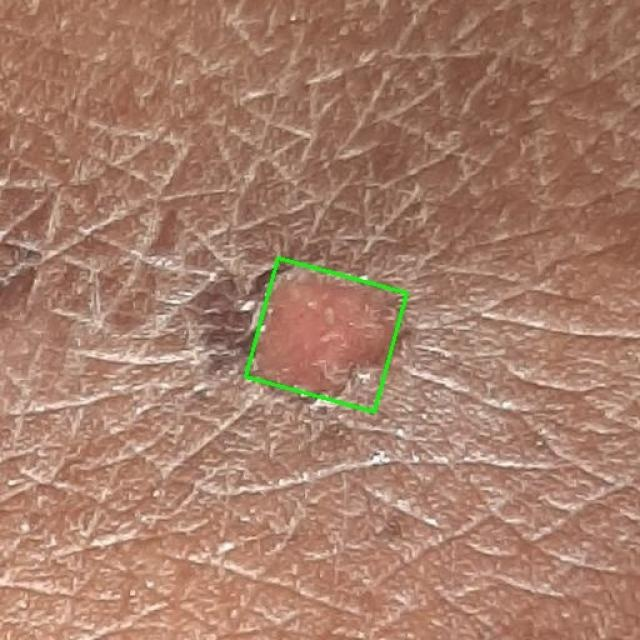Contact Dermatitis: (246, 259, 407, 412)
